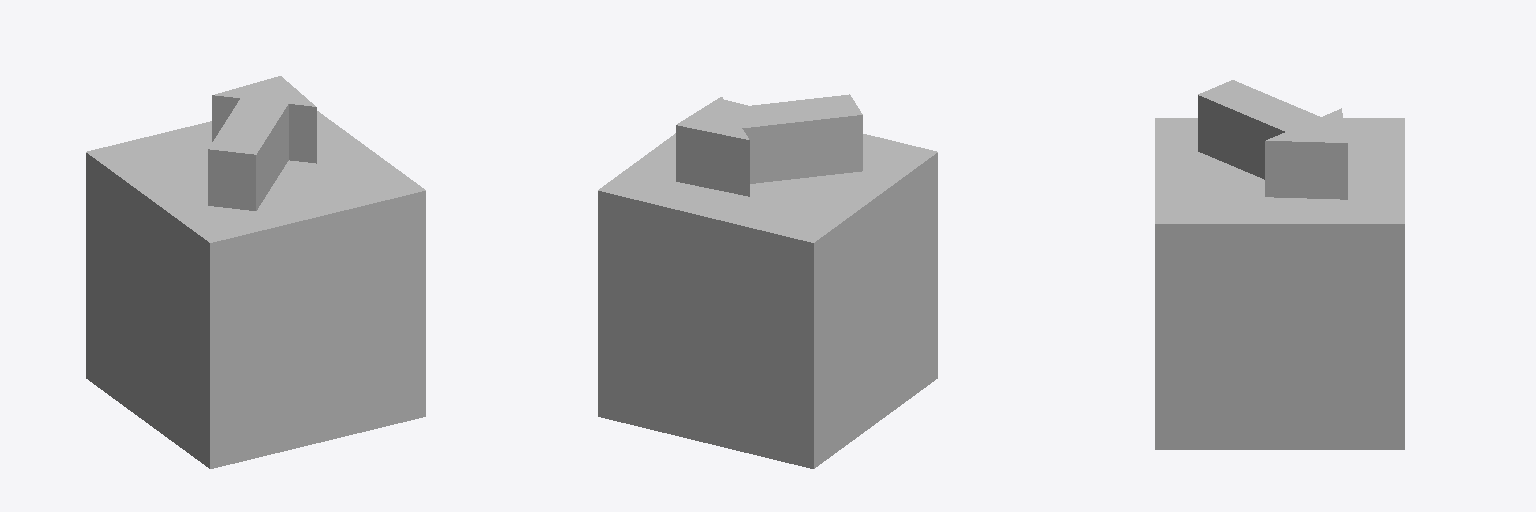
Rendered from Arrow_cube_cap_rotated45_preprocessed.obj.
The picture shows the model from 3 angles: view 1: azimuth 30°, elevation 25°; view 2: azimuth 150°, elevation 25°; view 3: azimuth 270°, elevation 25°; orthographic projection.
Bounding box in the file's own units: 0.08 × 0.1 × 0.08.